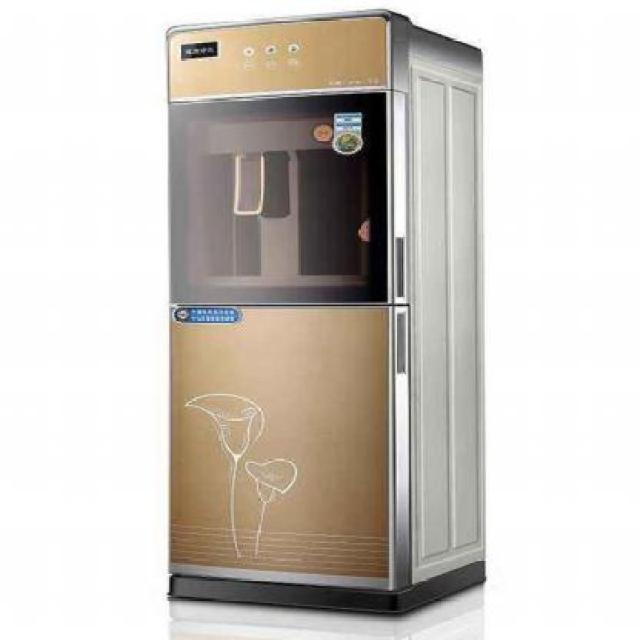cooler: (158, 2, 494, 619)
